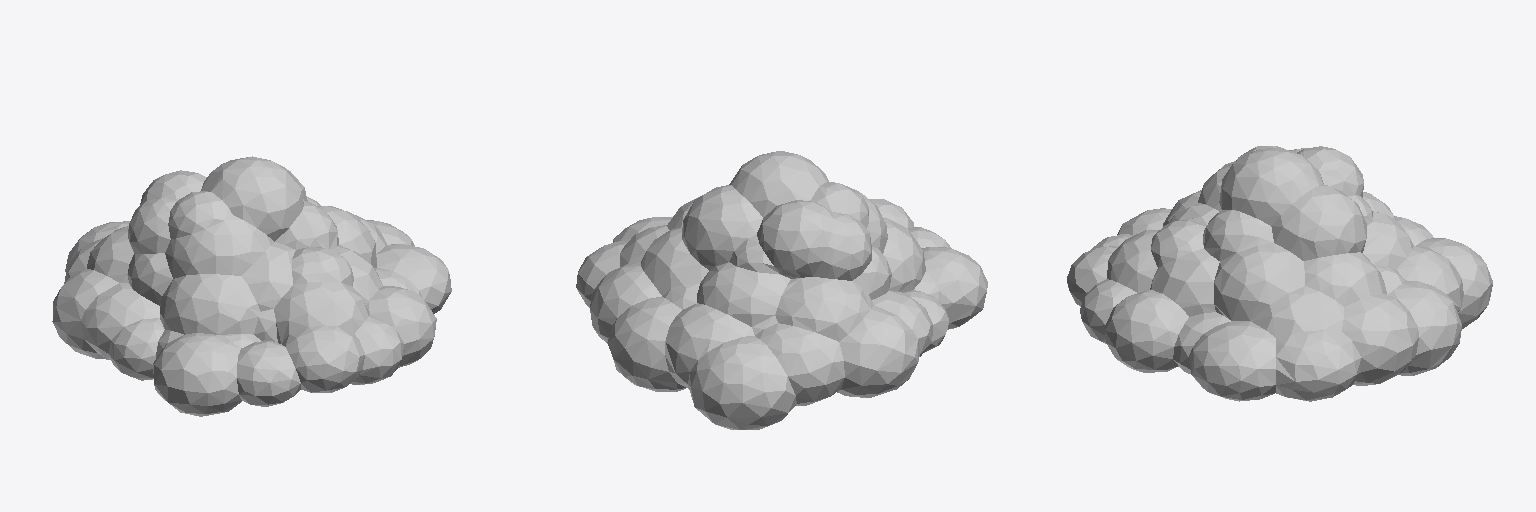
The model's file is Soap1.obj.
3 renders of one model, left to right at view 1: azimuth 30°, elevation 25°; view 2: azimuth 150°, elevation 25°; view 3: azimuth 270°, elevation 25°, orthographic.
Parts seen in each view (by area): view 1: Sphere.086; view 2: Sphere.086; view 3: Sphere.086.
Part boxes in pixels (x1,y1,x2,y2): Sphere.086: (52,156,451,416); Sphere.086: (576,151,987,429); Sphere.086: (1067,146,1492,401).
Size of the model in its own units: 4.59 by 2.53 by 4.96.